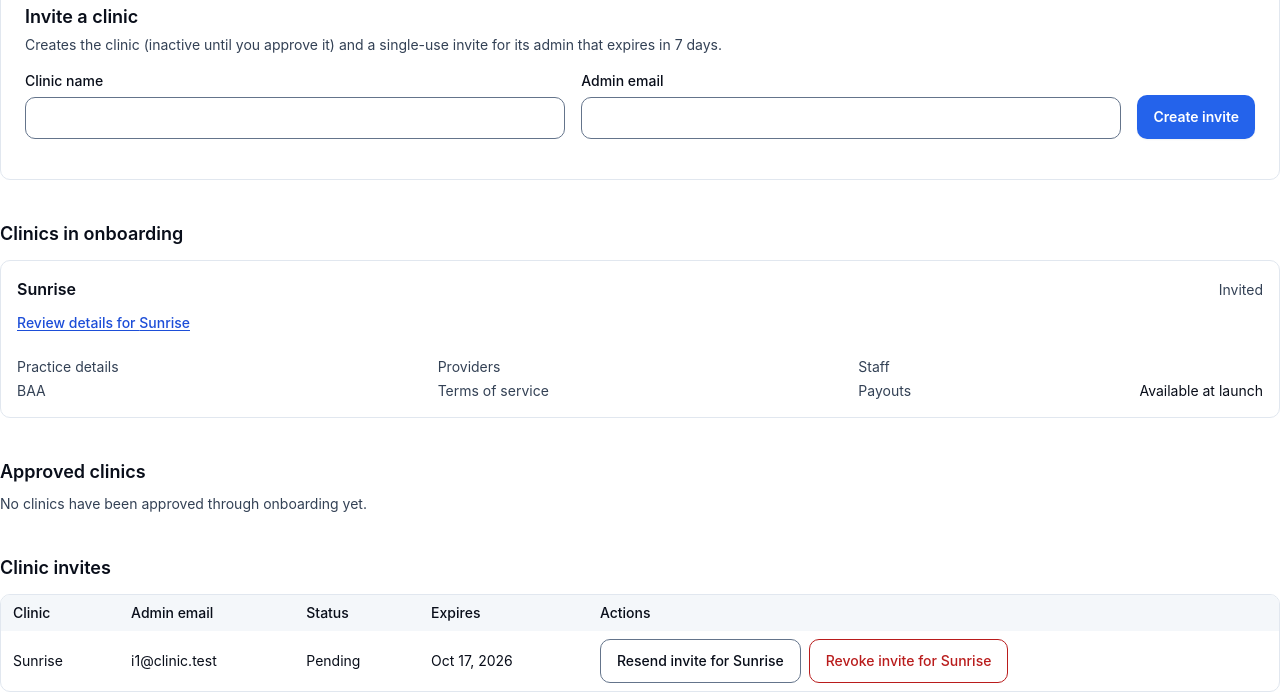
Scenario: a list that cannot be re-read keeps what is shown and the link
In the field labelled "Clinic name": (295, 118) [25, 97, 565, 139], type "X"
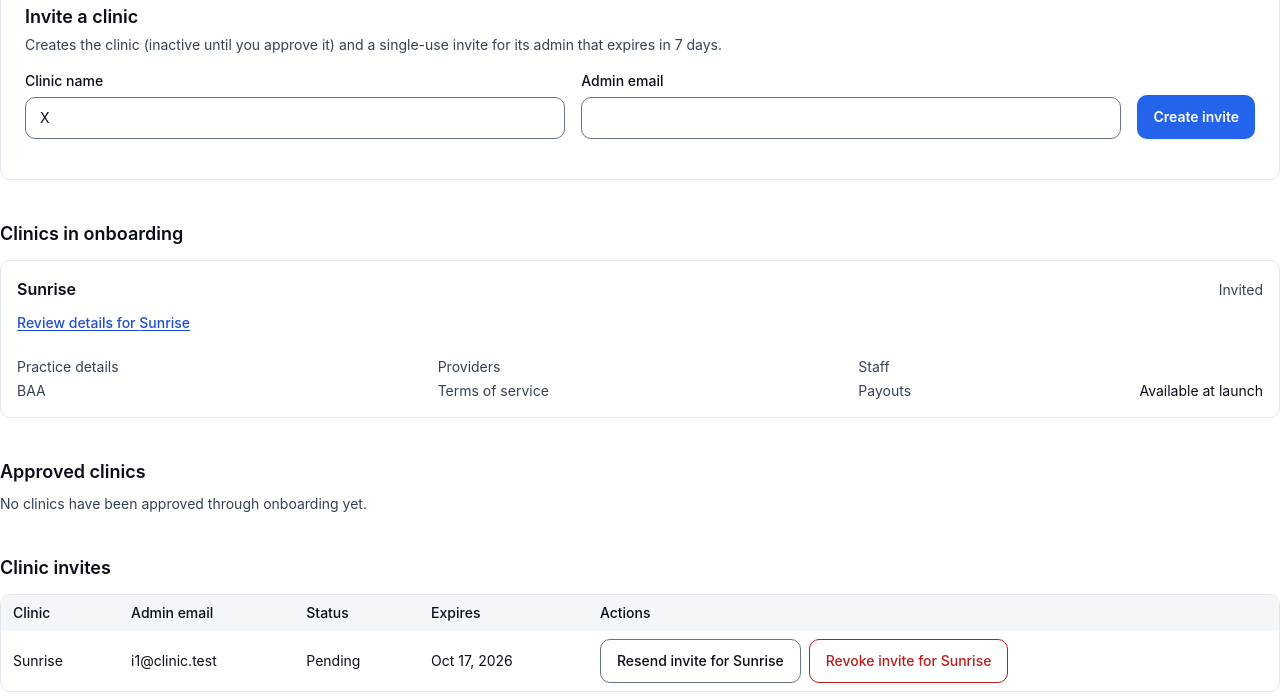
In the field labelled "Admin email": (851, 118) [581, 97, 1121, 139], type "x@clinic.test"
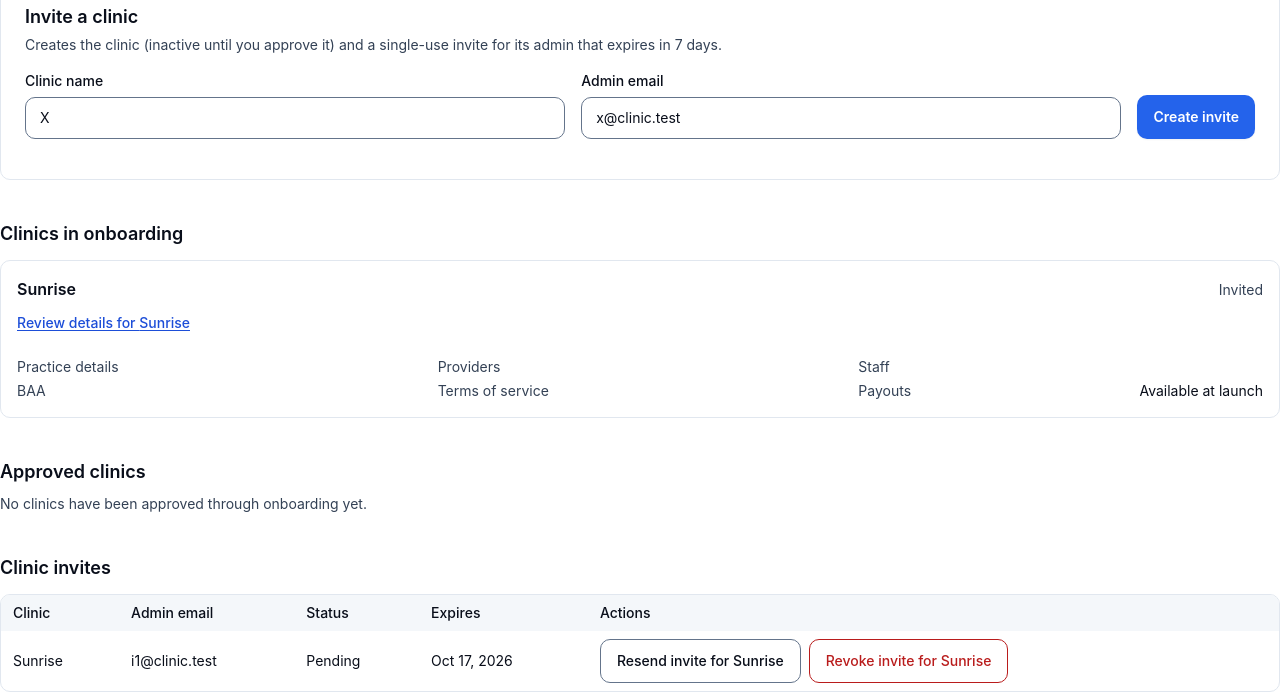
Click the button "Create invite": (1196, 117) [1137, 95, 1255, 139]
(page scrolled)
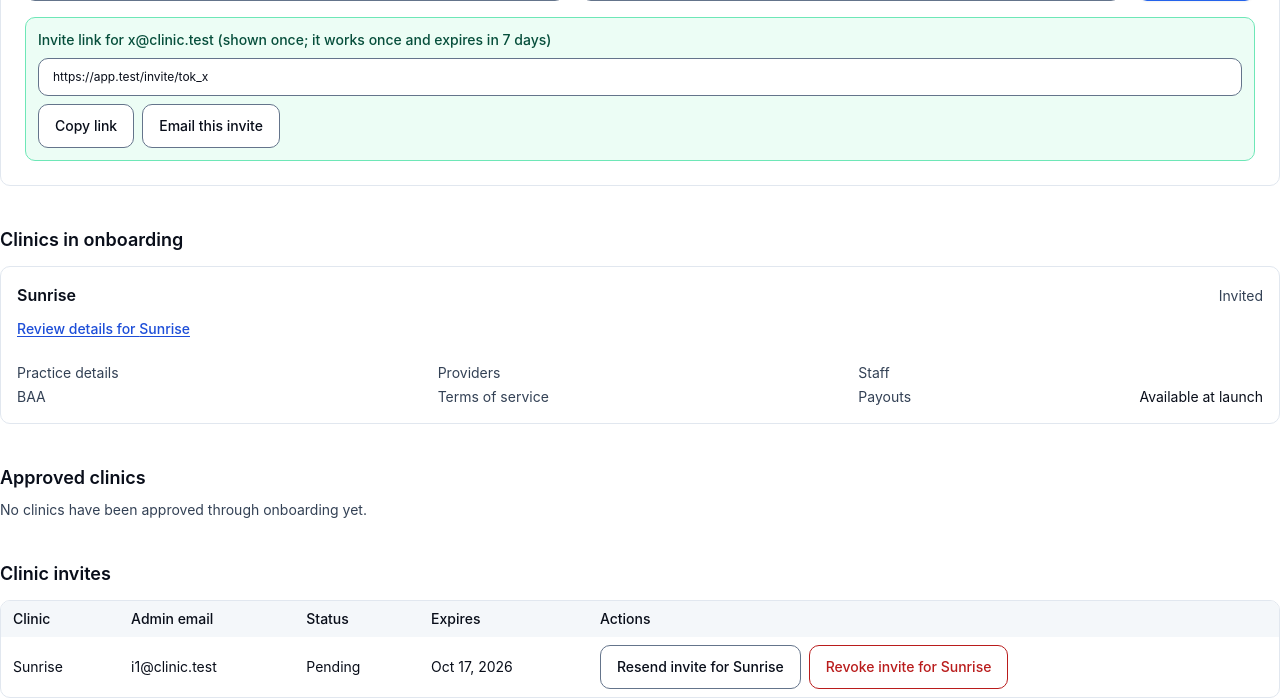
Expected: the text "Sunrise" is shown, [1, 637, 119, 697]
Expected: the field showing "https://app.test/invite/tok_x" is shown, [38, 58, 1242, 96]
